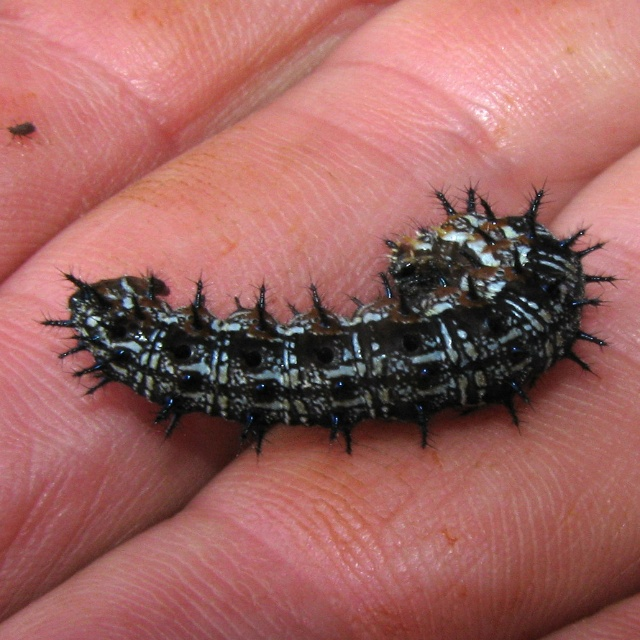Caterpillar: (36, 174, 623, 466)
